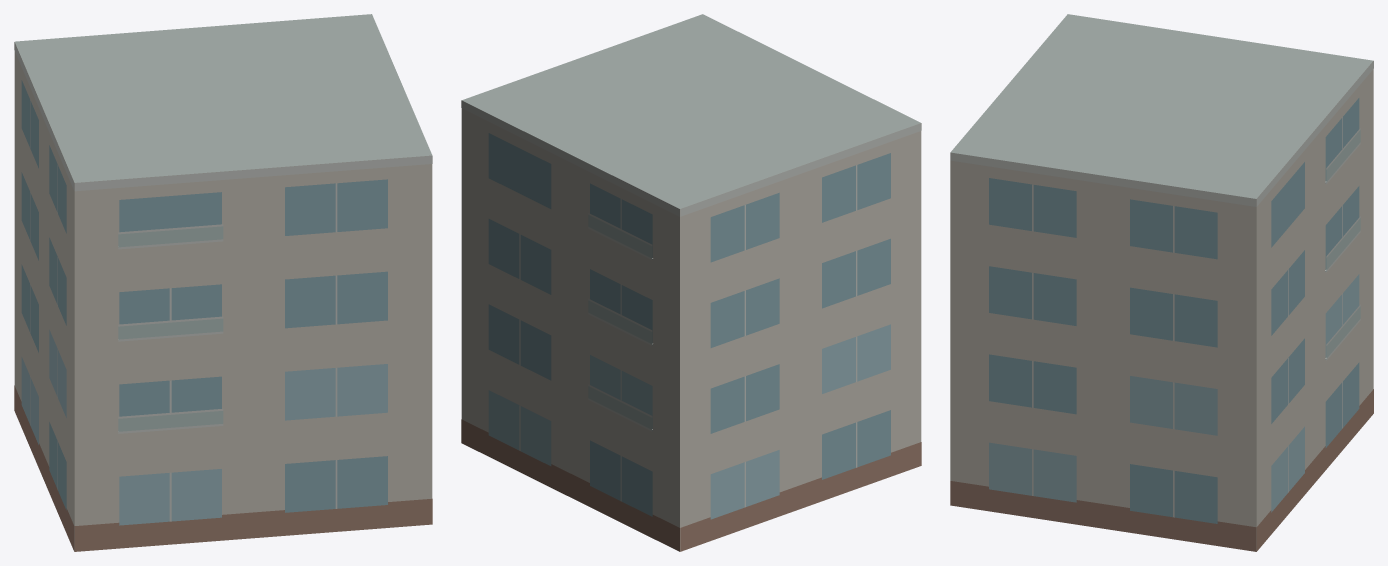
File: survey-upis-32538080.glb
3 views of the same model, side by side, from view 1: azimuth 30°, elevation 25°; view 2: azimuth 150°, elevation 25°; view 3: azimuth 270°, elevation 25° (orthographic). The views are drawn at different scales.
Visible parts, largest first — view 1: survey-upis-32538080.tmp; view 2: survey-upis-32538080.tmp; view 3: survey-upis-32538080.tmp.
Boxes of the visible parts, box(x1,y1,x2,y2) form: survey-upis-32538080.tmp: box(14, 14, 432, 551); survey-upis-32538080.tmp: box(461, 14, 921, 551); survey-upis-32538080.tmp: box(950, 14, 1373, 551).
Bounding box in the file's own units: 12.04 × 10.7 × 11.64.
